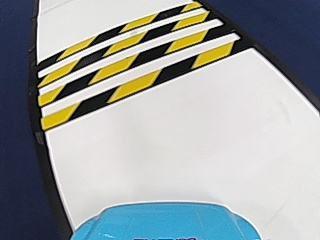bump: (51, 12, 205, 107)
